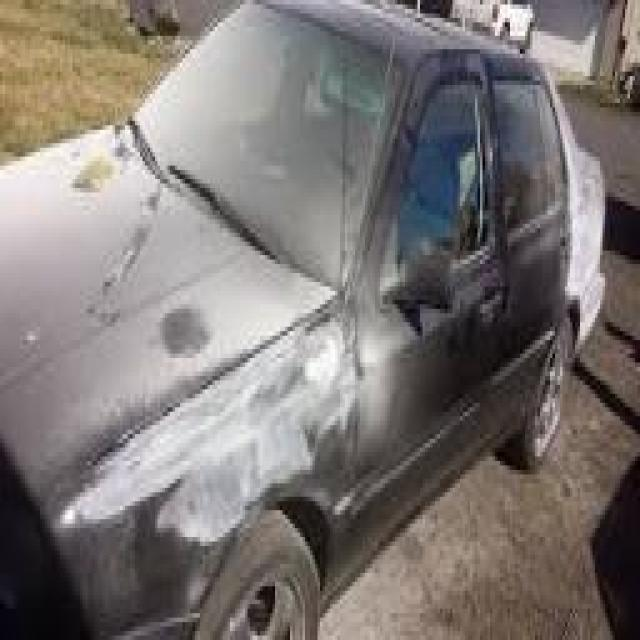Fender: (61, 328, 359, 603), (564, 165, 612, 292)
